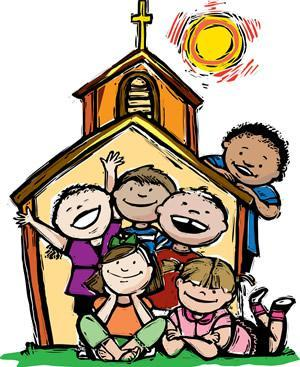person: (15, 148, 126, 357), (195, 121, 290, 274), (161, 254, 297, 359), (143, 186, 227, 318), (82, 234, 168, 360), (108, 162, 182, 253)
